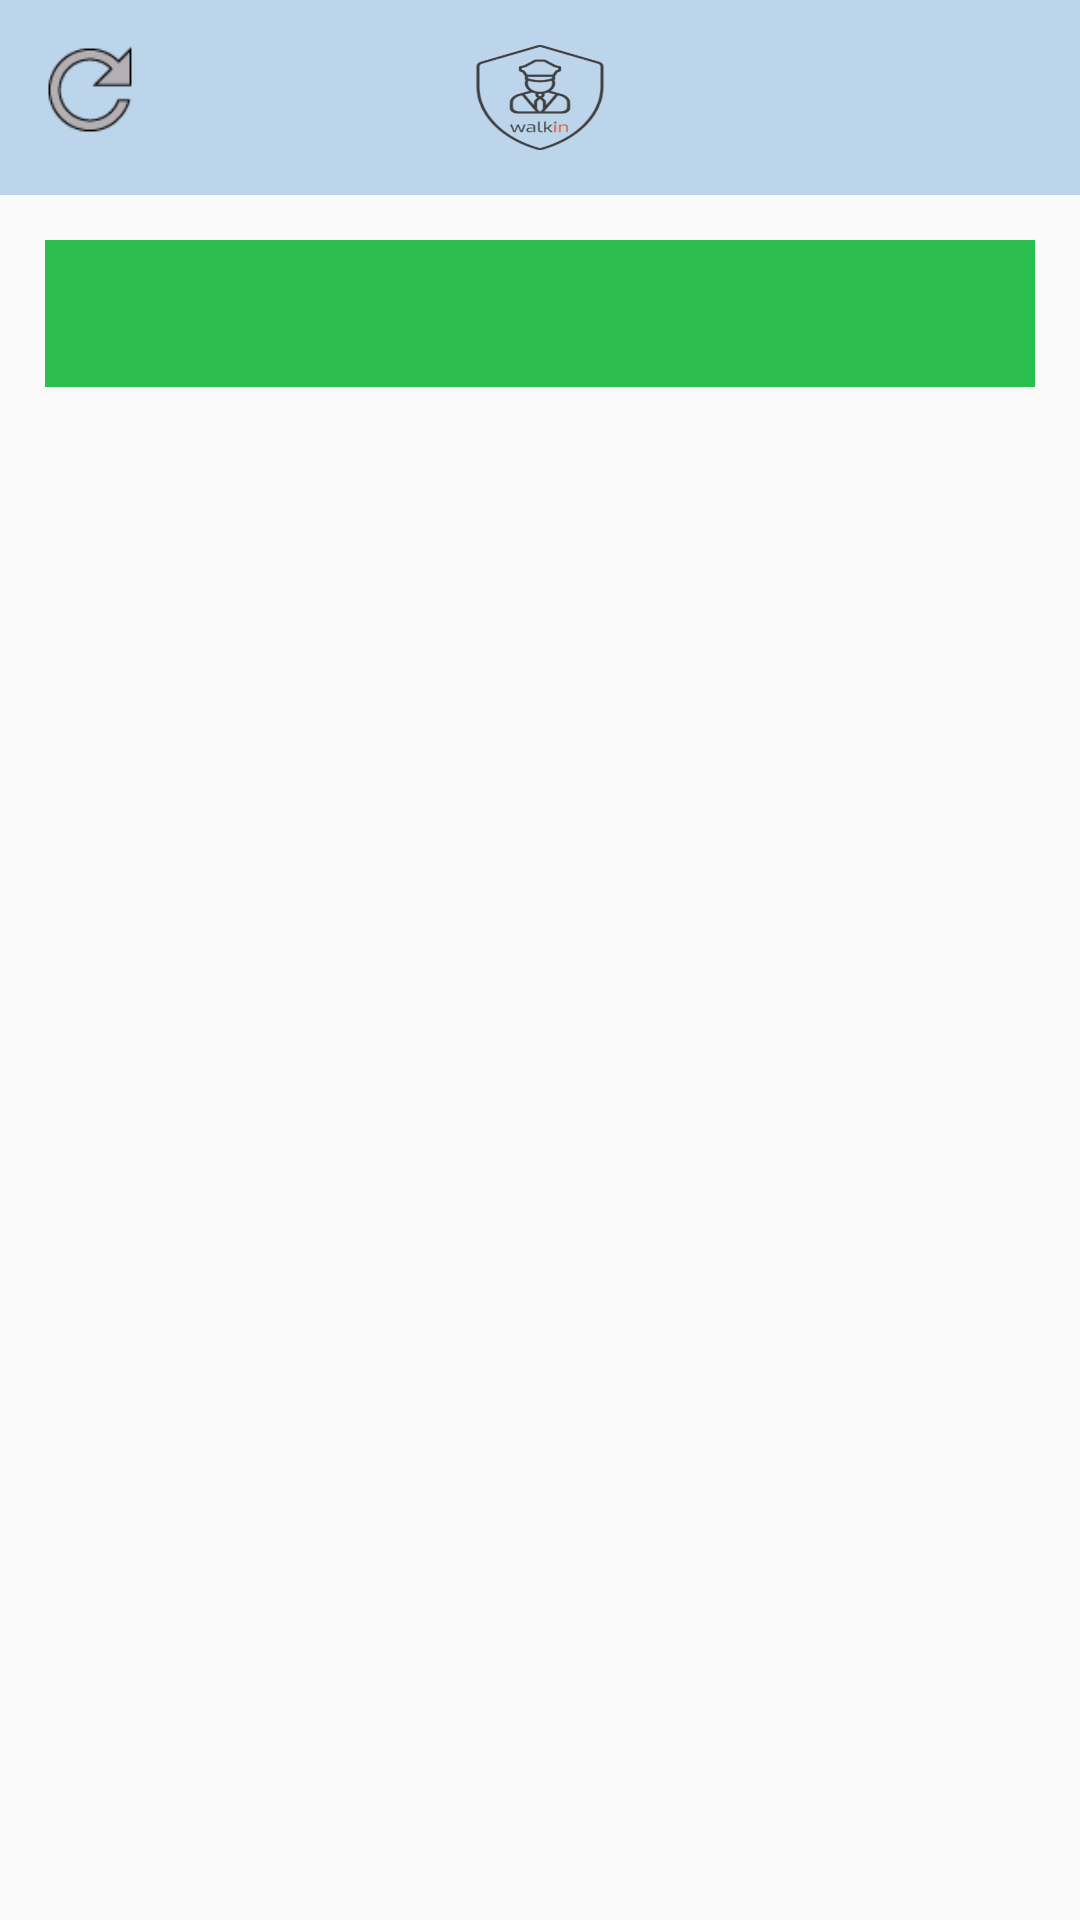

Where icons sit on this 1080×1920 app screen, as region(x1, y1, x2, y2):
refresh: region(48, 47, 132, 132)
